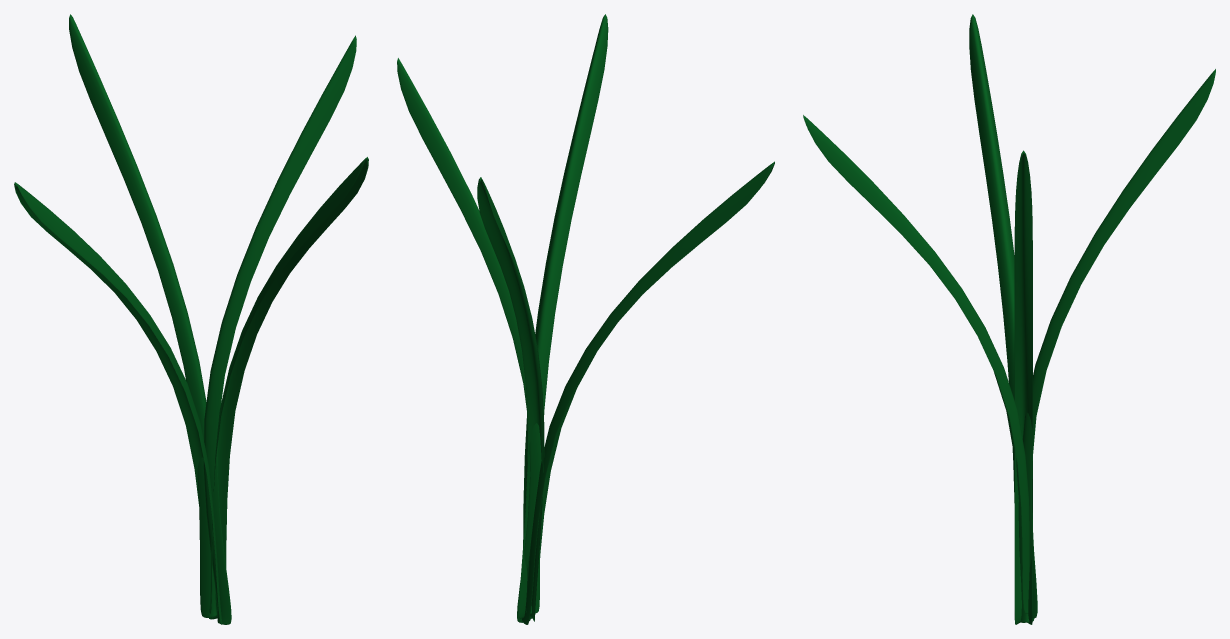
File: greenonion.fbx
3 views of the same model, side by side, from view 1: azimuth 30°, elevation 25°; view 2: azimuth 150°, elevation 25°; view 3: azimuth 270°, elevation 25° (orthographic). The views are drawn at different scales.
Visible parts, largest first — view 1: onion, onion3, onion1, onion2; view 2: onion1, onion2, onion, onion3; view 3: onion1, onion3, onion2, onion.
Boxes of the visible parts, bbox=[...] form: onion: bbox=[203, 35, 356, 624]; onion3: bbox=[69, 14, 216, 617]; onion1: bbox=[209, 157, 368, 613]; onion2: bbox=[14, 182, 222, 624]; onion1: bbox=[523, 14, 608, 613]; onion2: bbox=[522, 161, 774, 624]; onion: bbox=[397, 58, 541, 622]; onion3: bbox=[477, 177, 544, 621]; onion1: bbox=[803, 115, 1029, 613]; onion3: bbox=[1022, 69, 1215, 618]; onion2: bbox=[969, 14, 1034, 622]; onion: bbox=[1014, 150, 1032, 624].
Bounding box in the file's own units: 67.72 × 97.9 × 68.23.
